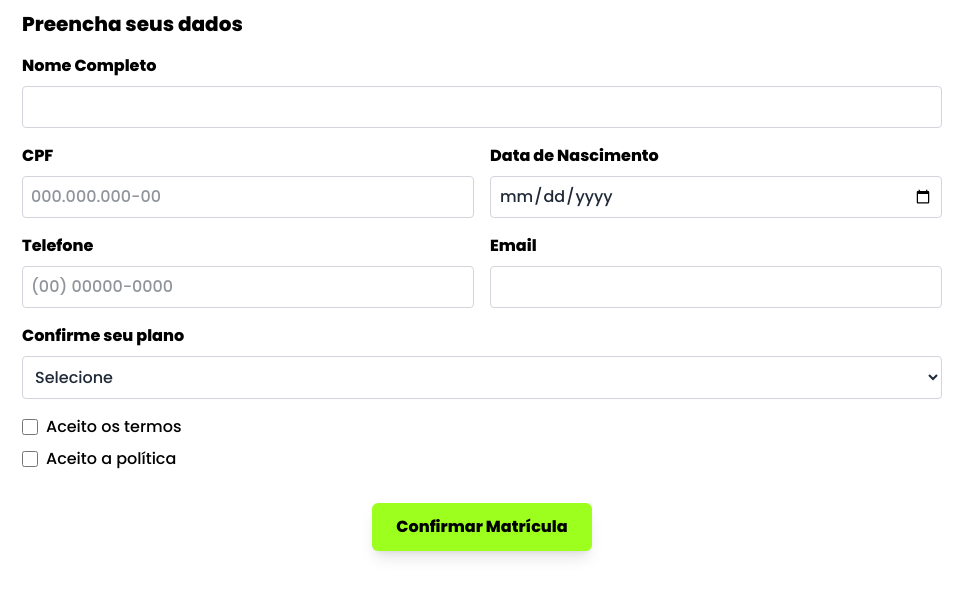
Test: EnrollmentForm › formata CPF e telefone enquanto digita
Type "abc12345678901" into the field labelled "CPF".
click(248, 197); type("abc12345678901")  # box [22,176,474,218]
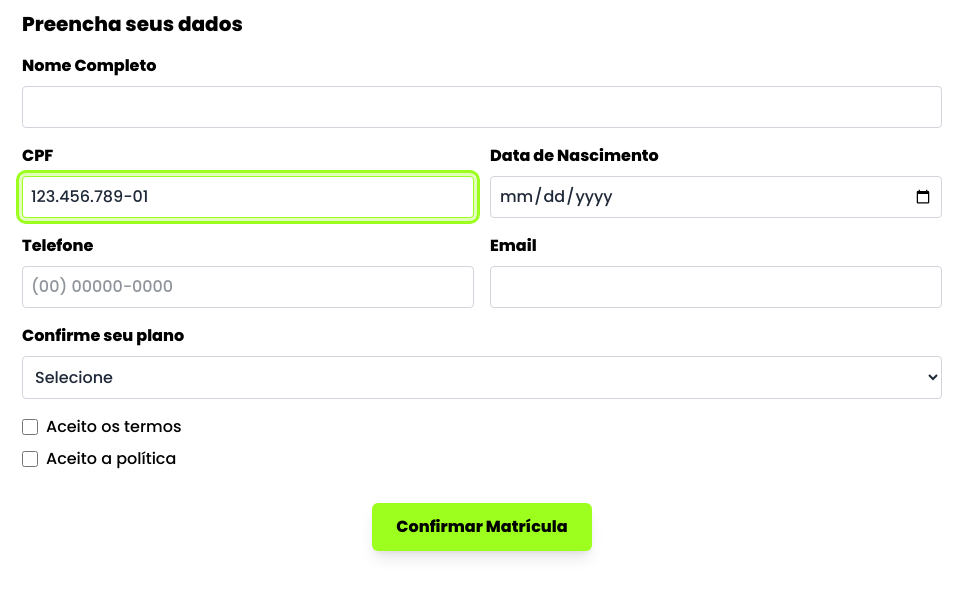
Type "(11)a99999b9999" into the field labelled "Telefone".
click(248, 287); type("(11)a99999b9999")  # box [22,266,474,308]
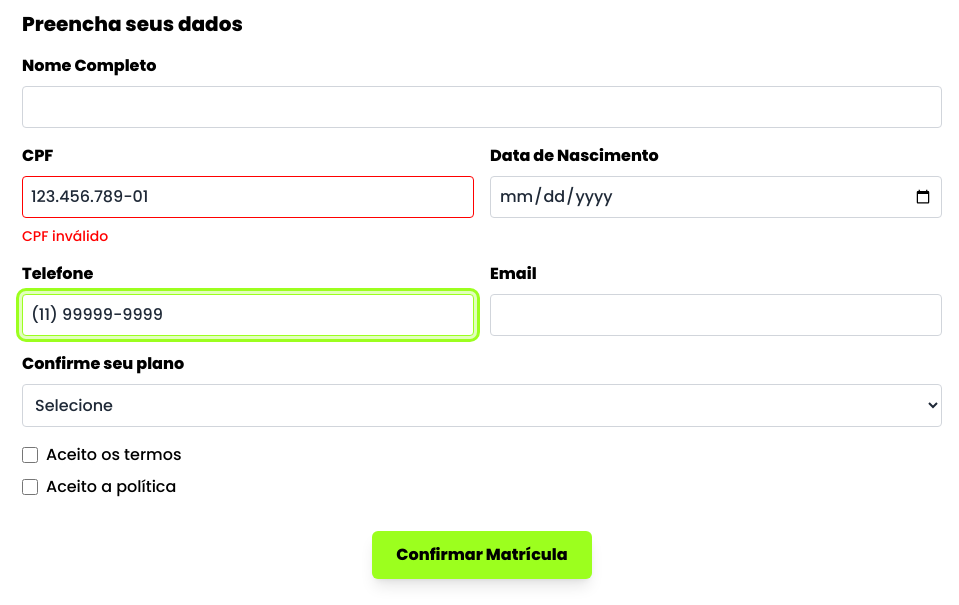
Result: the field labelled "CPF" holds "123.456.789-01" at [22,176,474,218]
Result: the field labelled "Telefone" holds "(11) 99999-9999" at [22,294,474,336]
